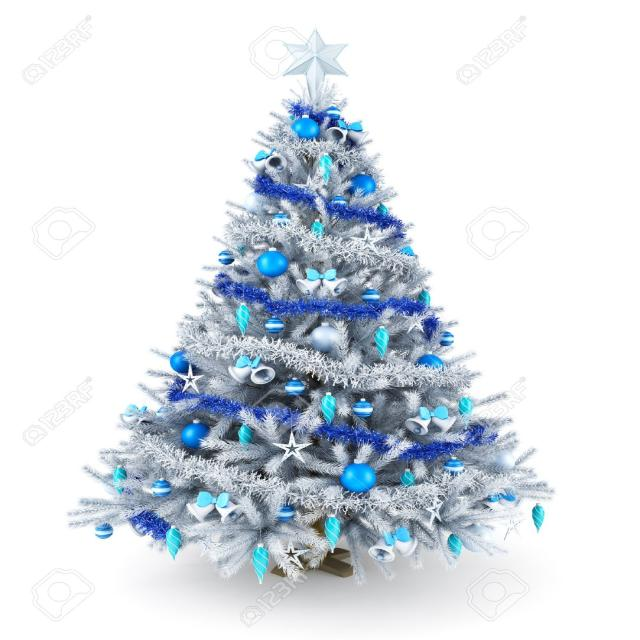Christmas-tree: (0, 11, 640, 582)
